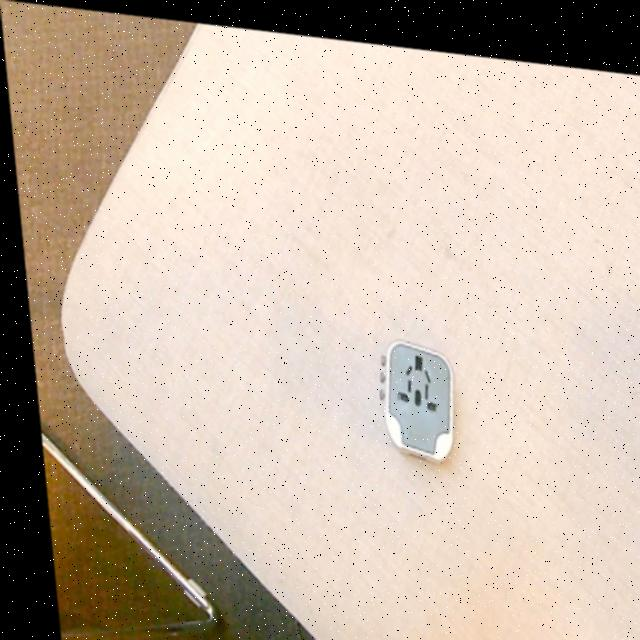adapter: (367, 326, 454, 455)
